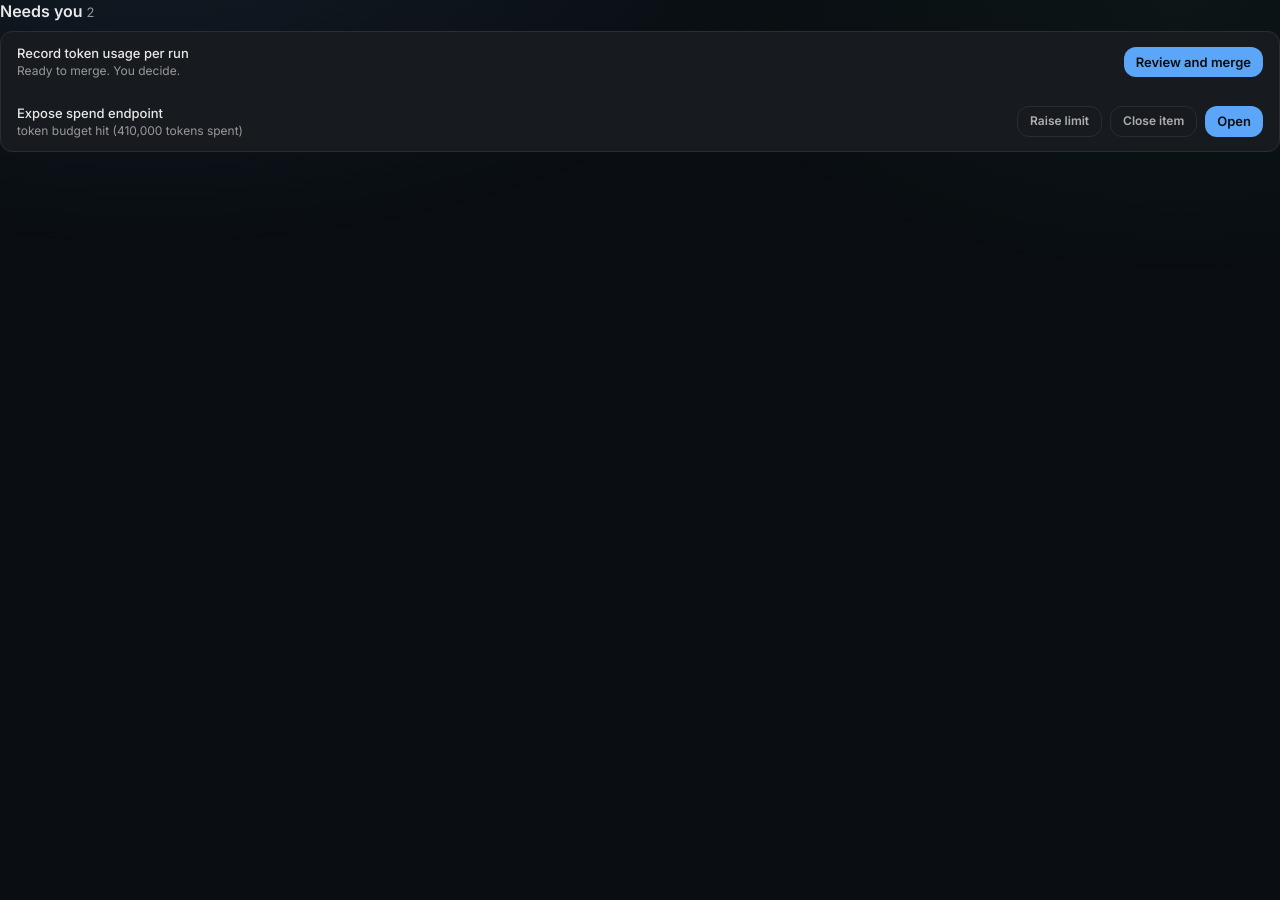
Test: needs_human actions › closes a needs_human item and dismisses the dialog on success
Click the button "Close item". click: (1154, 122)
box: [1110,106,1197,137]
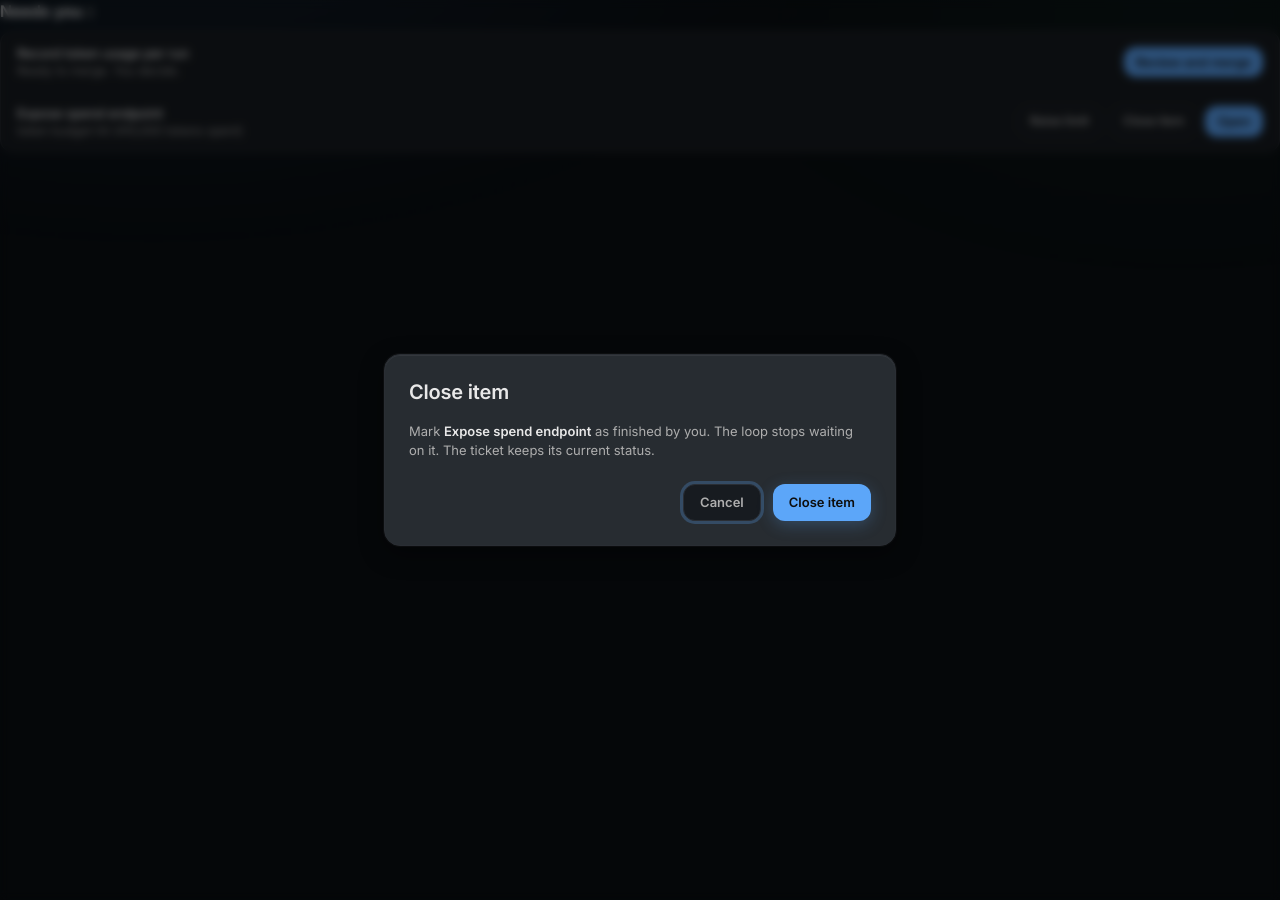
Click the button "Close item". click: (822, 502)
box: [773,484,871,521]
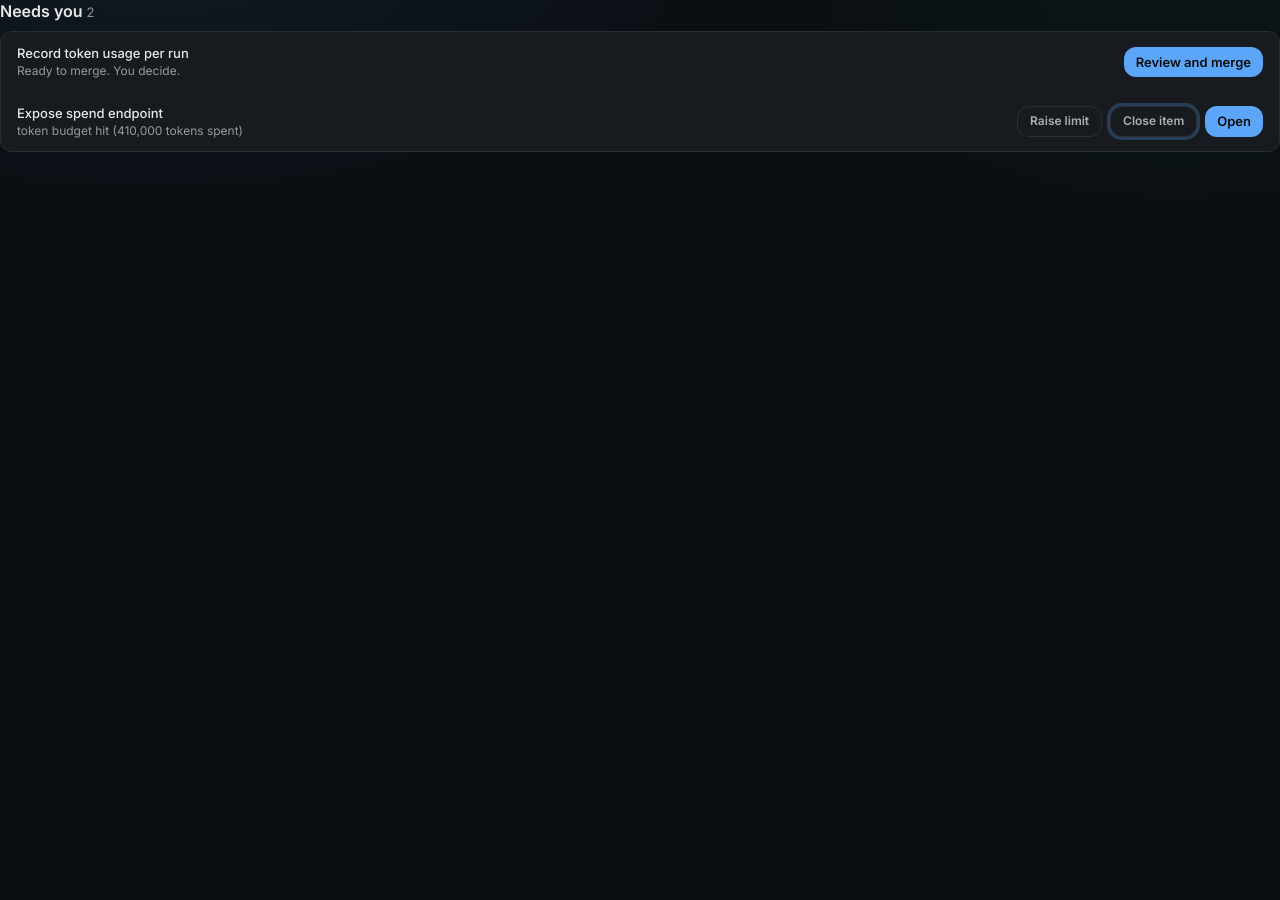
Check: the dialog is gone
